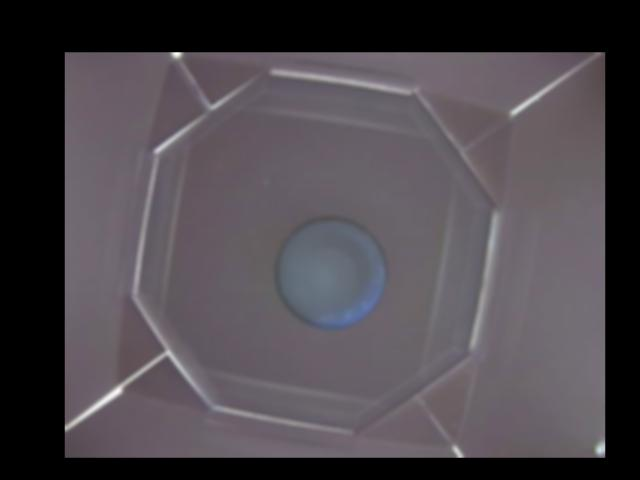Bottle: (273, 216, 386, 330)
